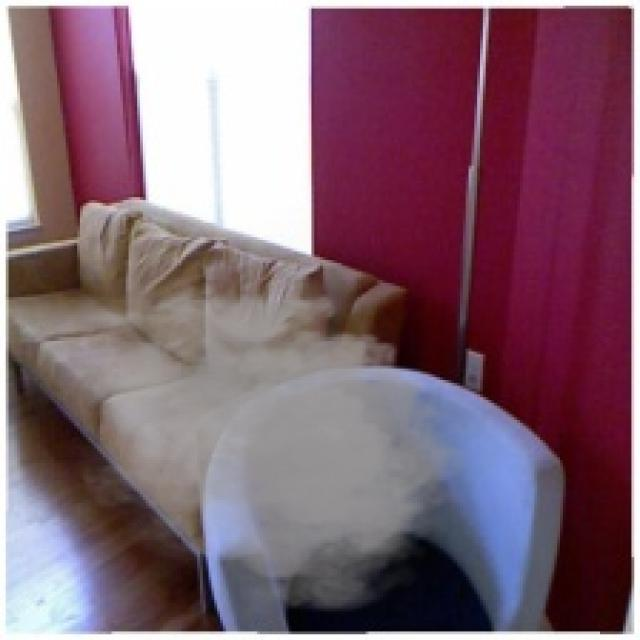smoke: (57, 268, 477, 623)
